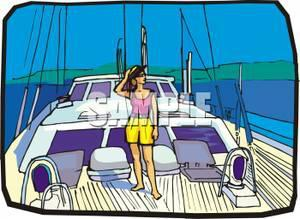person: (117, 61, 170, 201)
